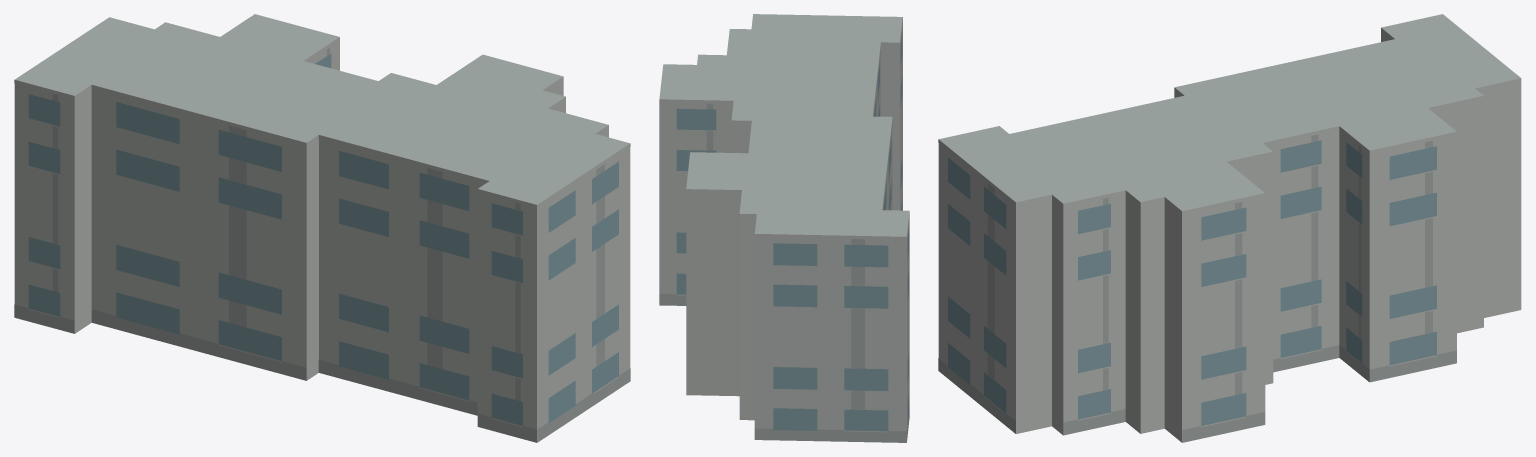
The model's file is residential-13258ddc-dcd9-41c4-a9e6-c336404e4c7f.glb.
3 views of the same model, side by side, from view 1: azimuth 30°, elevation 25°; view 2: azimuth 150°, elevation 25°; view 3: azimuth 270°, elevation 25° (orthographic). The views are drawn at different scales.
Visible parts, largest first — view 1: residential-13258ddc-dcd9-41c4-a9e6-c336404e4c7f.tmp; view 2: residential-13258ddc-dcd9-41c4-a9e6-c336404e4c7f.tmp; view 3: residential-13258ddc-dcd9-41c4-a9e6-c336404e4c7f.tmp.
Part boxes in pixels (x1,y1,x2,y2): residential-13258ddc-dcd9-41c4-a9e6-c336404e4c7f.tmp: (14,14,630,442); residential-13258ddc-dcd9-41c4-a9e6-c336404e4c7f.tmp: (659,14,909,442); residential-13258ddc-dcd9-41c4-a9e6-c336404e4c7f.tmp: (938,14,1521,442).
Bounding box in the file's own units: 27.85 × 15.25 × 34.78.
